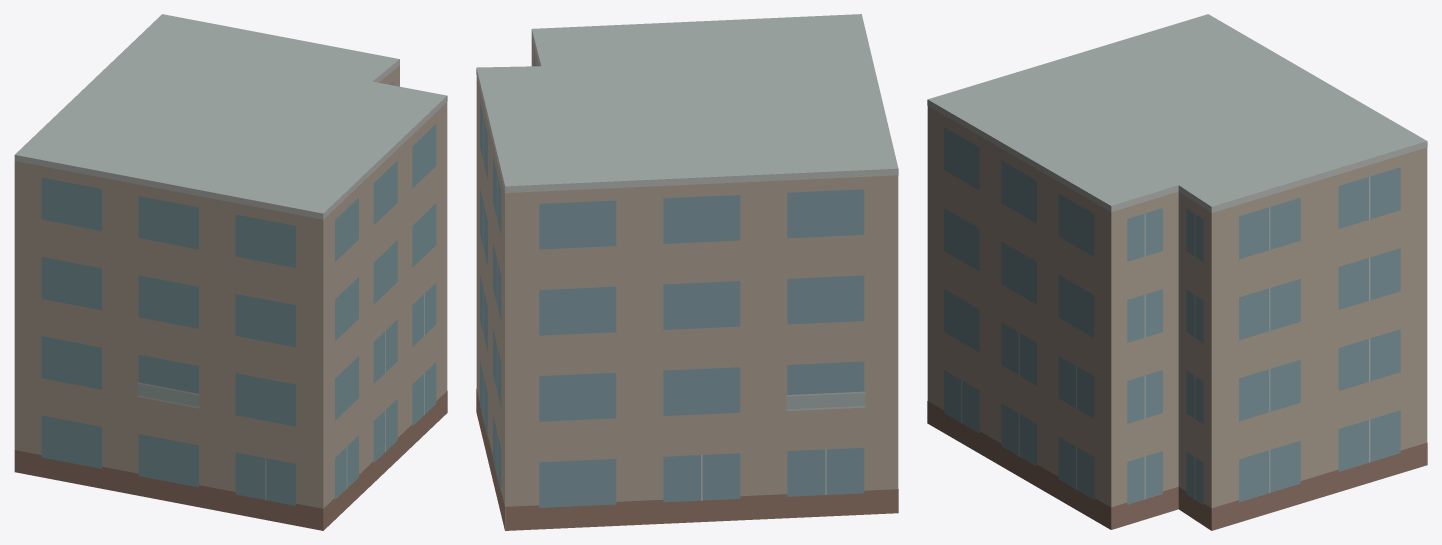
Rendered from survey-upis-32723300.glb.
3 views of the same model, side by side, from view 1: azimuth 30°, elevation 25°; view 2: azimuth 150°, elevation 25°; view 3: azimuth 270°, elevation 25° (orthographic). The views are drawn at different scales.
Visible parts, largest first — view 1: survey-upis-32723300.tmp; view 2: survey-upis-32723300.tmp; view 3: survey-upis-32723300.tmp.
Part boxes in pixels (left/top/right/bottom): survey-upis-32723300.tmp: left=14, top=14, right=447, bottom=530; survey-upis-32723300.tmp: left=476, top=14, right=898, bottom=530; survey-upis-32723300.tmp: left=927, top=14, right=1427, bottom=530.
Bounding box in the file's own units: 16.08 × 12.59 × 17.61.
